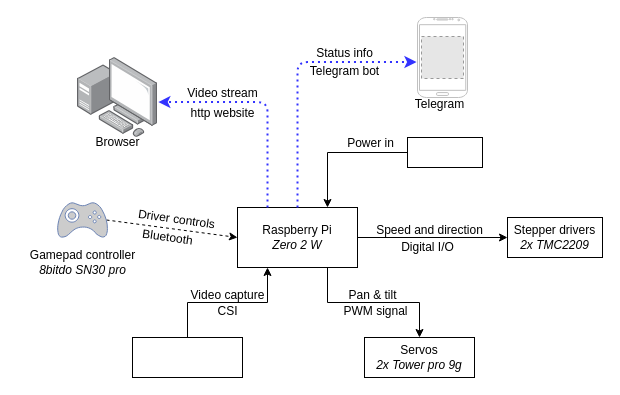
Some shapes in this 620 by 395 pixel diagram are drawn without their labels. Grey dashed boxes stand in for pictures. Each missing label, with the centre of its shape:
"12v battery" belongs at pixel 444 152.
"Nightvision camera ZeroCam" belongs at pixel 187 357.
